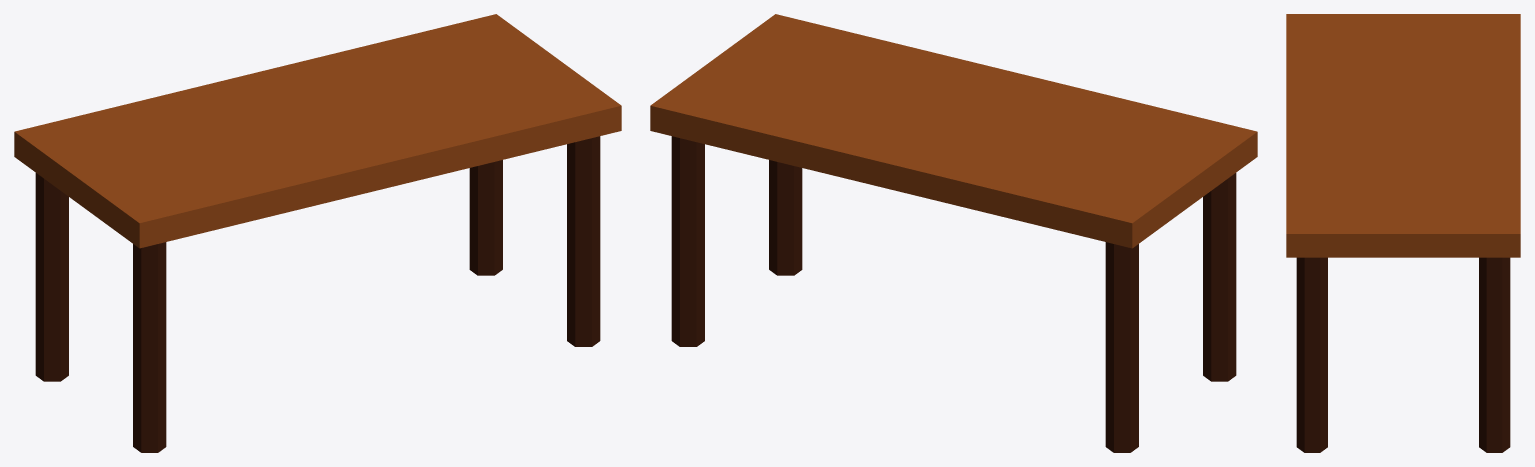
File: alchemy_table.obj
3 renders of one model, left to right at view 1: azimuth 30°, elevation 25°; view 2: azimuth 150°, elevation 25°; view 3: azimuth 270°, elevation 25°, orthographic. The views are drawn at different scales.
Visible parts, largest first — view 1: alchemy_table; view 2: alchemy_table; view 3: alchemy_table.
Part boxes in pixels (bbox=[...]): alchemy_table: bbox=[14, 14, 621, 452]; alchemy_table: bbox=[650, 14, 1257, 452]; alchemy_table: bbox=[1286, 14, 1520, 452].
Bounding box in the file's own units: 2 × 0.95 × 0.9.
